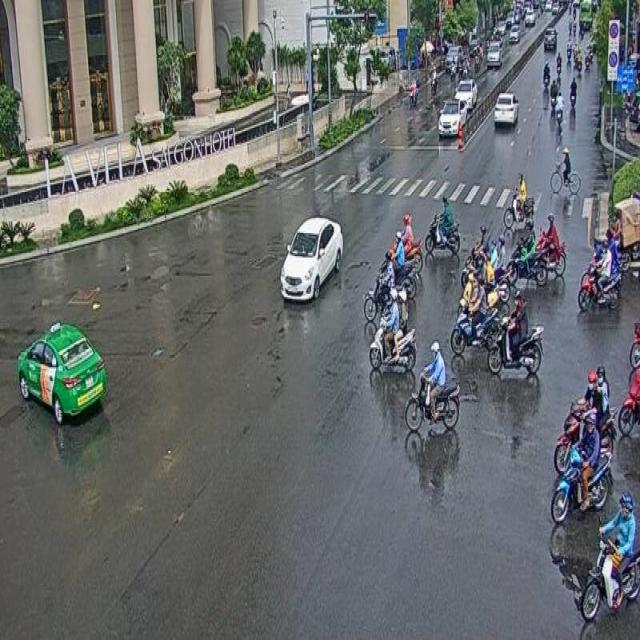bicycle: (549, 144, 580, 193)
car: (19, 319, 106, 425), (279, 215, 342, 305)
motorcycle: (579, 489, 640, 617), (550, 413, 614, 521), (403, 340, 460, 436), (488, 288, 542, 373), (369, 289, 417, 372), (450, 278, 499, 354), (577, 238, 618, 314), (506, 216, 549, 286), (363, 250, 405, 321), (380, 232, 418, 300), (423, 195, 459, 258), (502, 169, 534, 226)
